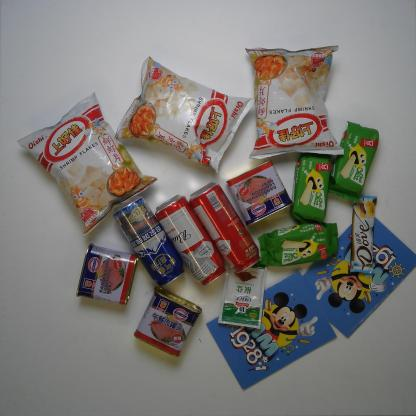Alcohol: (152, 192, 230, 288), (187, 179, 263, 277), (111, 191, 185, 289)
Canned Food: (129, 286, 212, 360), (224, 154, 294, 230), (70, 238, 142, 308)
Chocolate: (344, 190, 381, 276)
Dessert: (325, 116, 384, 204), (259, 218, 348, 268), (291, 138, 341, 226)
Puffed Food: (16, 89, 159, 240), (113, 55, 257, 175), (242, 45, 346, 160)
Seasoner: (218, 260, 268, 330)
Stationery: (288, 209, 416, 341), (207, 269, 338, 388)
